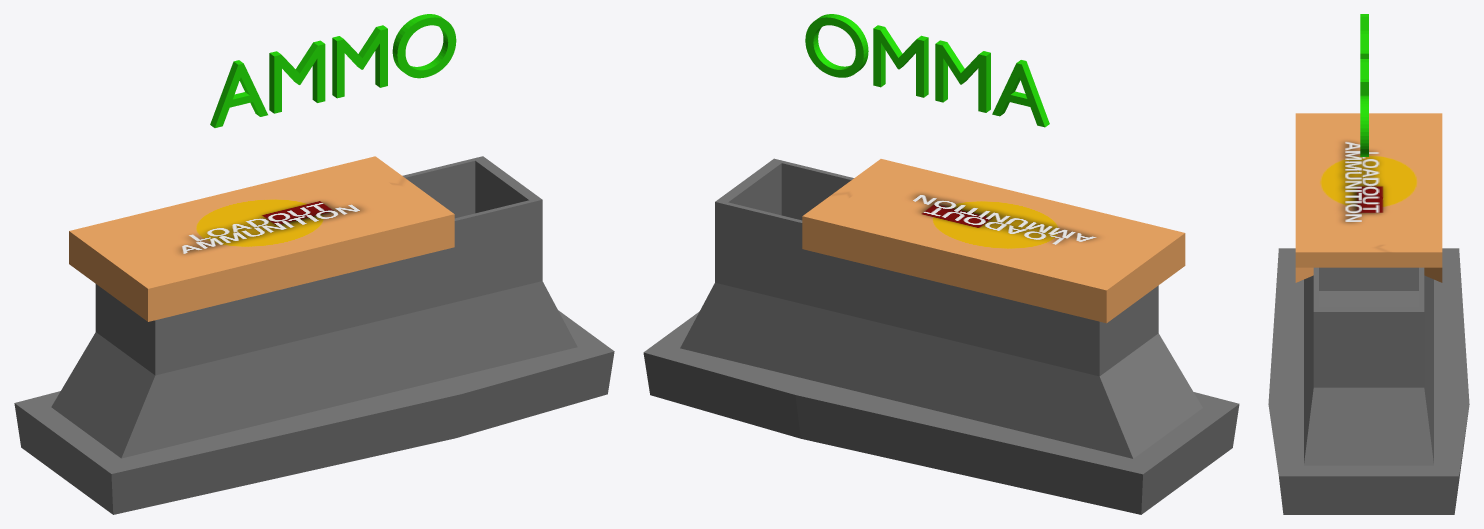
The model's file is BulletBox.fbx.
3 renders of one model, left to right at view 1: azimuth 30°, elevation 25°; view 2: azimuth 150°, elevation 25°; view 3: azimuth 270°, elevation 25°, orthographic. The views are drawn at different scales.
Visible parts, largest first — view 1: Text; view 2: Text; view 3: Text.
Boxes of the visible parts, left/top/right/bottom form: Text: left=14, top=14, right=614, bottom=514; Text: left=643, top=14, right=1239, bottom=514; Text: left=1268, top=14, right=1469, bottom=514.
Bounding box in the file's own units: 976 × 712 × 364.
Materials: 3 (1 with a texture image).
